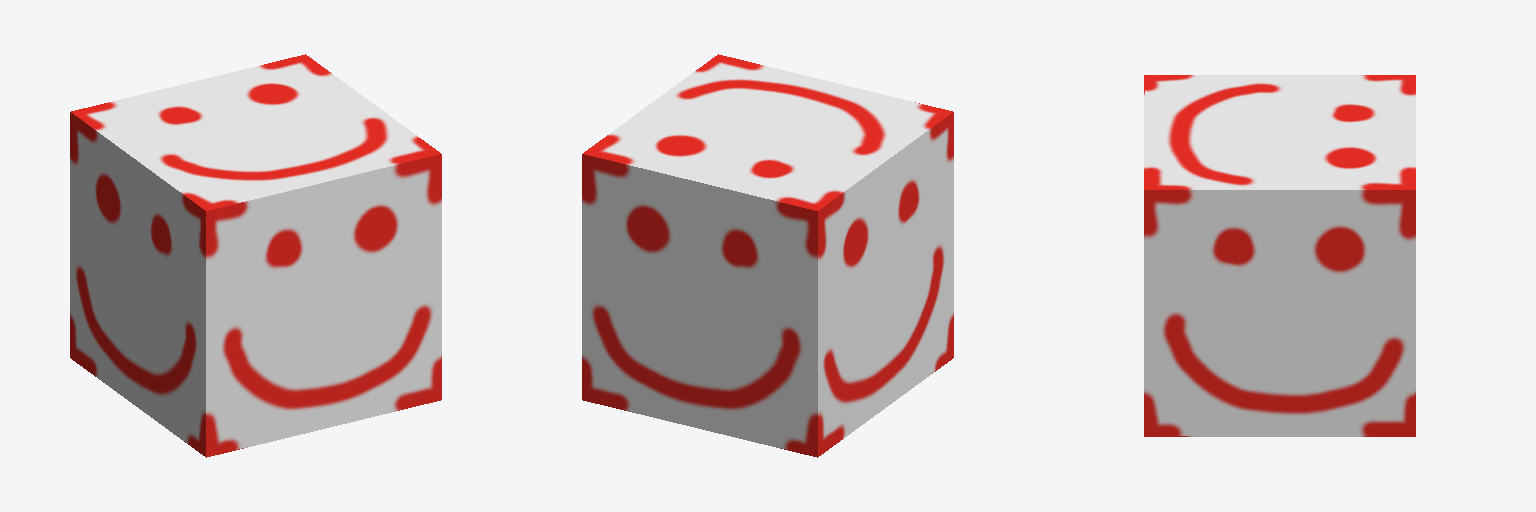
3 renders of one model, left to right at view 1: azimuth 30°, elevation 25°; view 2: azimuth 150°, elevation 25°; view 3: azimuth 270°, elevation 25°, orthographic.
Visible parts, largest first — view 1: Cube_Cube.001; view 2: Cube_Cube.001; view 3: Cube_Cube.001.
Boxes of the visible parts, x1=… form: Cube_Cube.001: x1=70, y1=54, x2=441, y2=457; Cube_Cube.001: x1=582, y1=54, x2=953, y2=457; Cube_Cube.001: x1=1144, y1=75, x2=1415, y2=436.
Size of the model in its own units: 2 by 2 by 2.
1 materials, 1 textured.